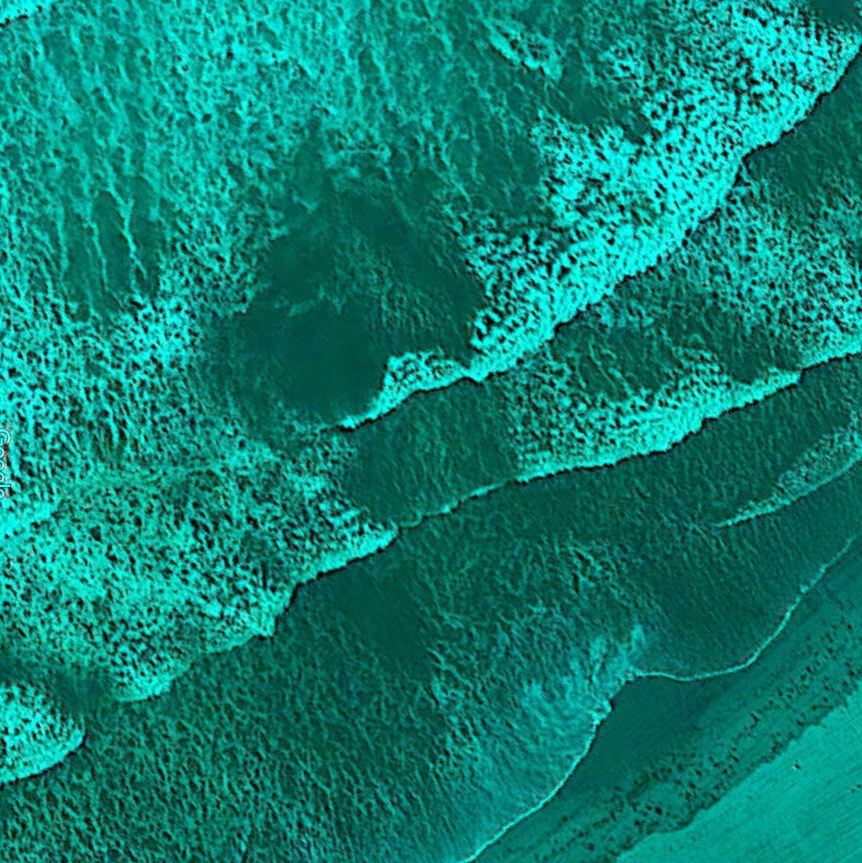rip_current: (161, 162, 663, 697)
